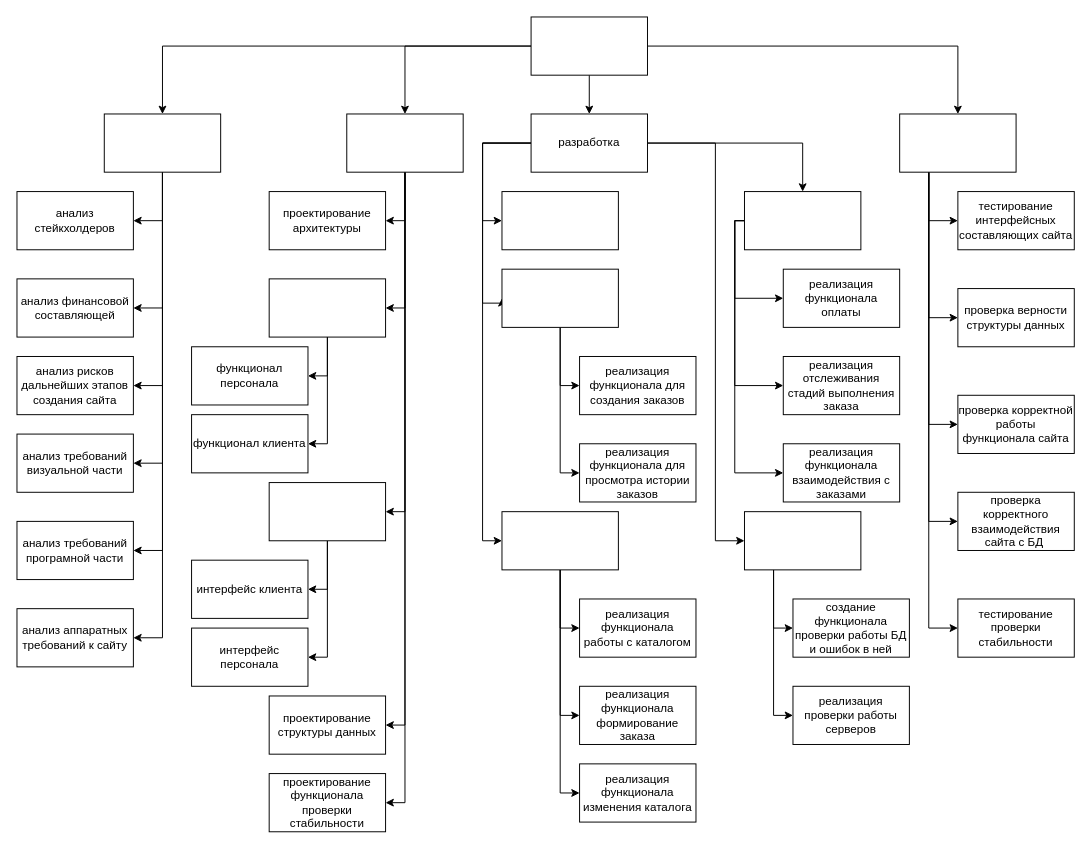
Image size: 1091x849. Some labels were removed from this diagram. Here are the shapes that lost their labels. From the top down, the centre of each, then its label:
At point 588,45: "создание сайта".
At point 162,142: "анализ требований".
At point 404,142: "проектирование".
At point 957,142: "тестирование".
At point 559,220: "реализация дизайна сайта".
At point 802,220: "реализация модуля заказ".
At point 327,307: "проектирование функционала модулей сайта".
At point 559,297: "реализация модуля личный кабинет".
At point 327,511: "проектирование интерфейса модулей сайта".
At point 559,540: "реализация модуля каталог".
At point 802,540: "реализация проверки стабильности".
